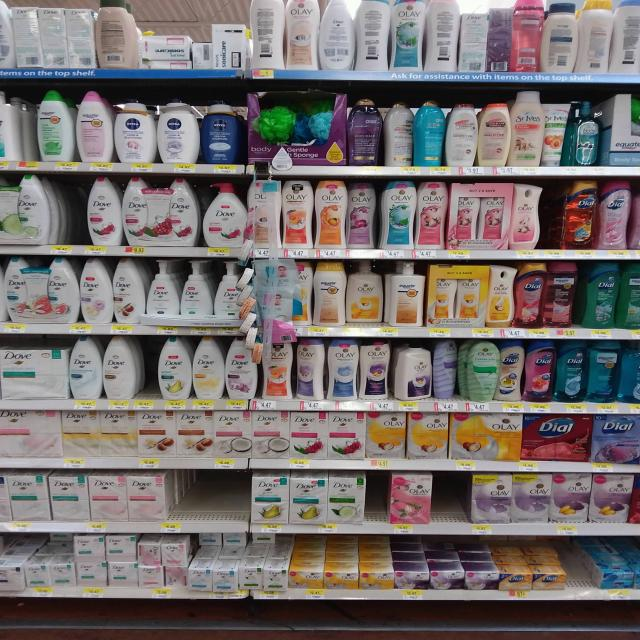empty: (164, 461, 251, 529), (53, 165, 91, 253), (553, 531, 600, 592), (427, 469, 470, 525), (538, 175, 563, 264)
